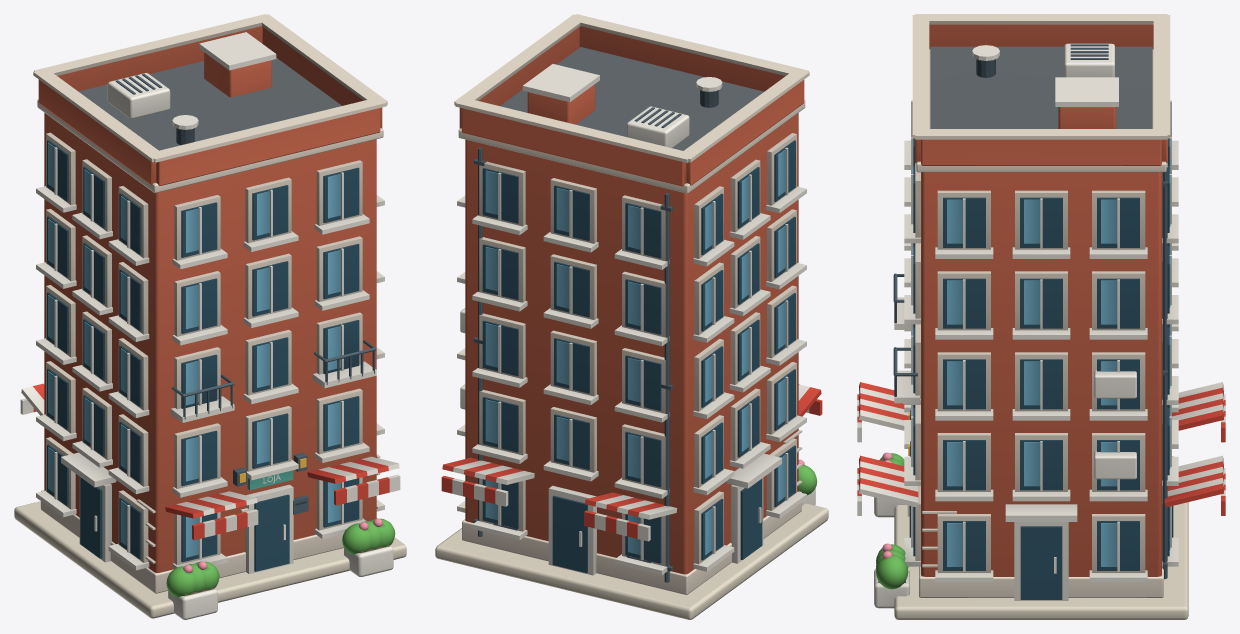
Rendered from townhouse-coral.glb.
The picture shows the model from 3 angles, left to right: view 1: azimuth 30°, elevation 25°; view 2: azimuth 150°, elevation 25°; view 3: azimuth 270°, elevation 25°; orthographic projection. The views are drawn at different scales.
Visible parts, largest first — view 1: stucco, foundation, mullion, blue glazing, sky reflection, recessed roof, paving, striped canopy, plant, vent grille; view 2: stucco, foundation, mullion, blue glazing, sky reflection, paving, recessed roof, vent grille, striped canopy; view 3: stucco, foundation, mullion, blue glazing, recessed roof, sky reflection, paving, striped canopy, vent grille, plant.
Part boxes in pixels (x1,y1,x2,y2): stucco: [38, 26, 382, 572]; foundation: [33, 14, 387, 593]; mullion: [20, 32, 400, 619]; blue glazing: [47, 140, 359, 571]; sky reflection: [48, 142, 340, 557]; recessed roof: [78, 58, 341, 150]; paving: [14, 501, 406, 618]; striped canopy: [33, 383, 389, 540]; plant: [166, 518, 395, 597]; vent grille: [115, 73, 376, 514]; stucco: [459, 26, 804, 574]; foundation: [454, 14, 809, 594]; mullion: [452, 64, 815, 575]; blue glazing: [482, 140, 795, 573]; sky reflection: [485, 149, 785, 554]; paving: [435, 503, 828, 619]; recessed roof: [500, 47, 763, 150]; vent grille: [473, 90, 718, 582]; striped canopy: [441, 384, 822, 538]; stucco: [915, 24, 1167, 576]; foundation: [912, 14, 1170, 597]; mullion: [857, 43, 1225, 608]; blue glazing: [909, 138, 1173, 599]; recessed roof: [930, 46, 1152, 128]; sky reflection: [912, 139, 1170, 566]; paving: [894, 502, 1188, 619]; striped canopy: [857, 382, 1225, 515]; vent grille: [893, 44, 1167, 579]; plant: [876, 453, 908, 589].
Bounding box in the file's own units: 2.81 × 4.67 × 3.18.
